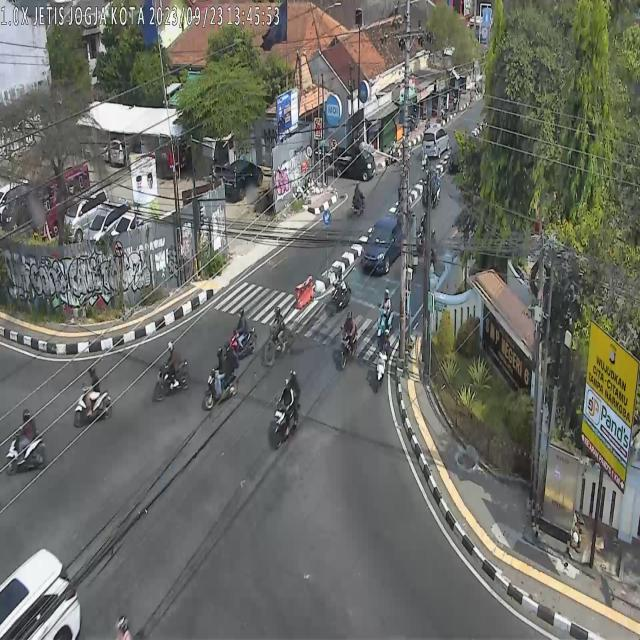car: (0, 546, 80, 640), (362, 212, 401, 274), (422, 128, 450, 157)
motorcycle: (6, 409, 46, 474), (203, 339, 238, 412), (74, 365, 112, 426), (273, 371, 301, 450), (155, 338, 189, 402), (264, 305, 294, 368), (230, 307, 256, 360), (339, 309, 357, 371), (330, 264, 350, 313), (375, 328, 390, 393), (378, 289, 393, 334)
truck: (330, 144, 376, 180)
